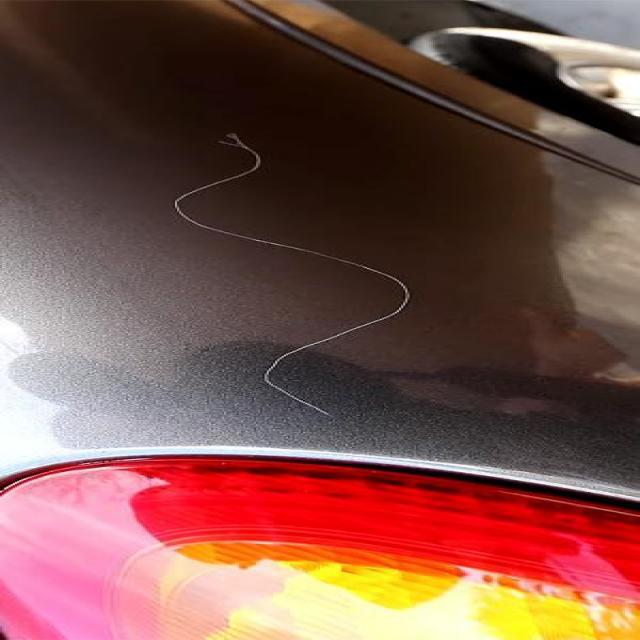scratch: (154, 124, 442, 420)
